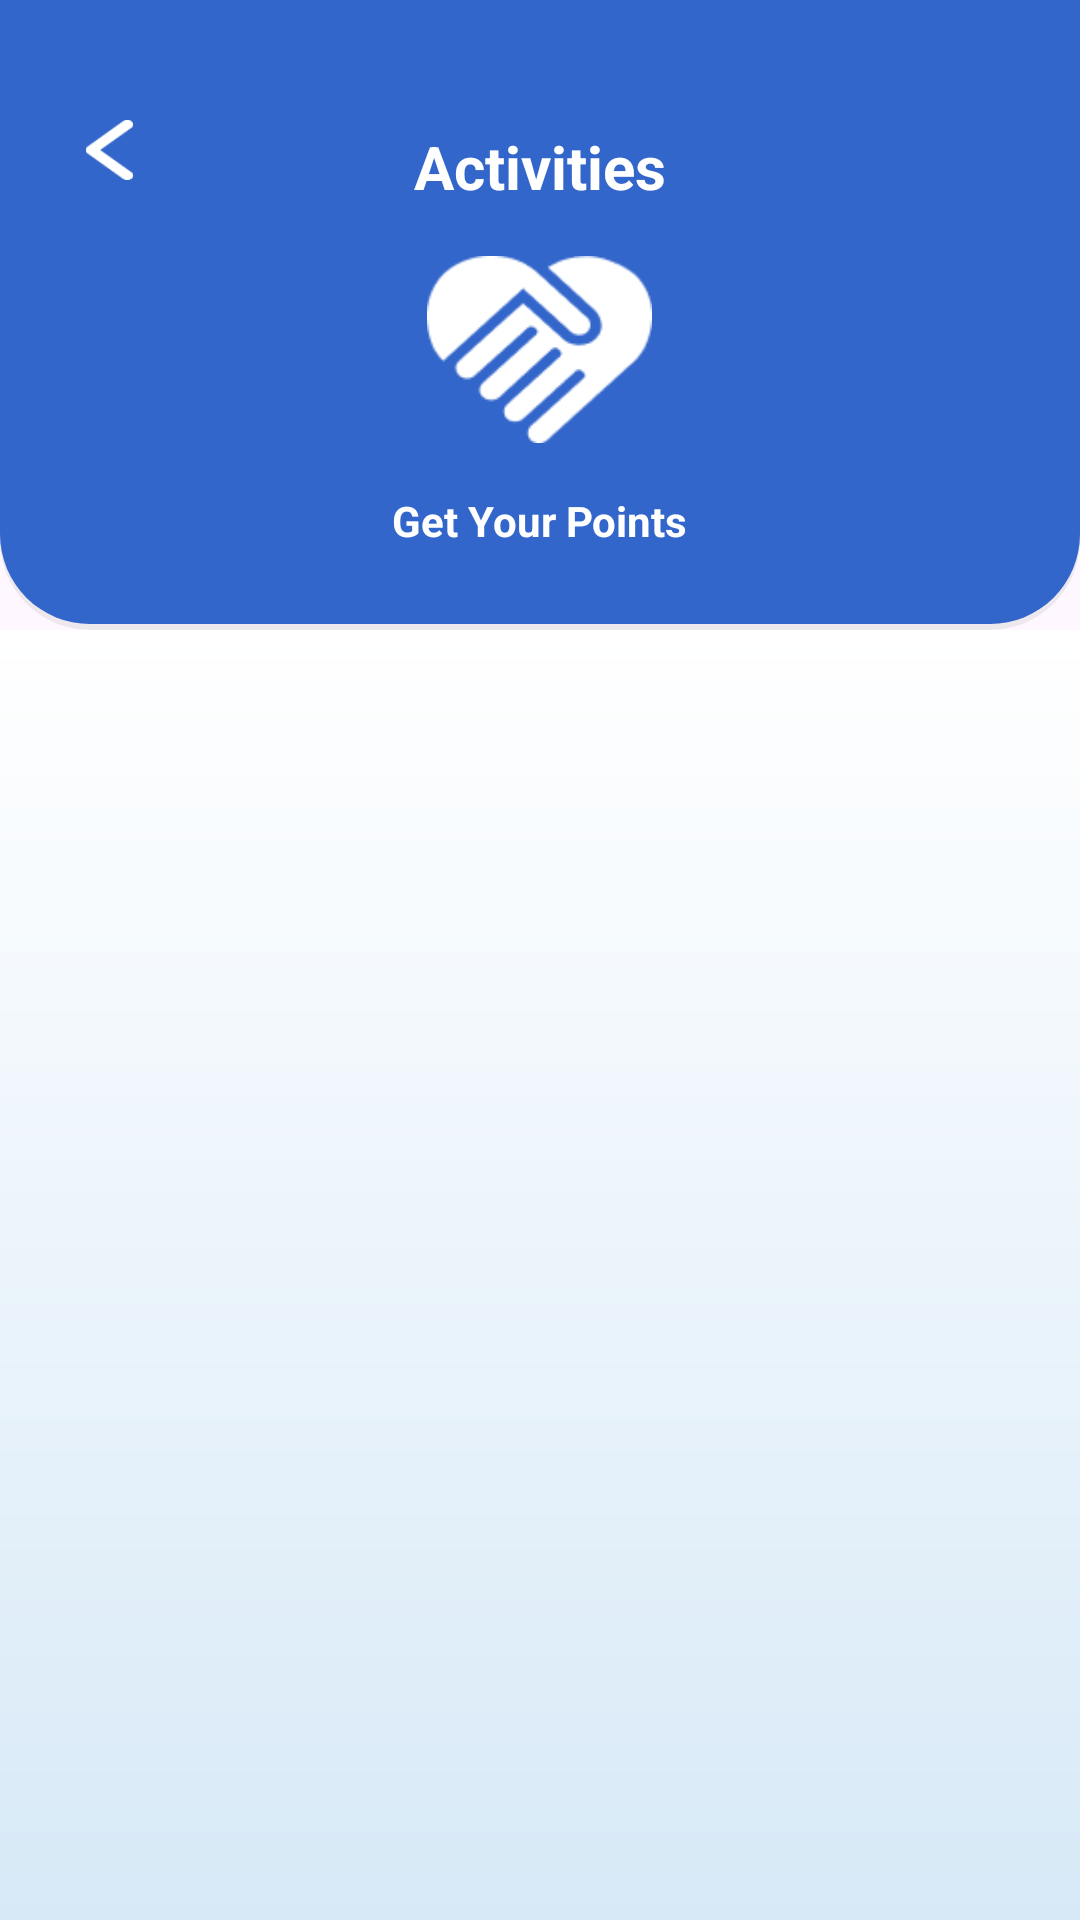

Where icons sit on this 1080w x 1920h app screen, as [x1, y1, x2, y2]:
arrow left: [86, 120, 133, 180]
handshake: [427, 256, 652, 443]
